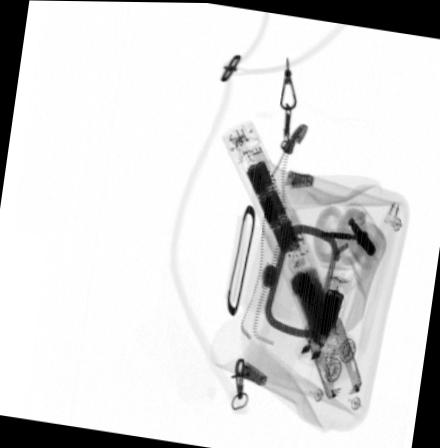Baton: (219, 118, 363, 400)
